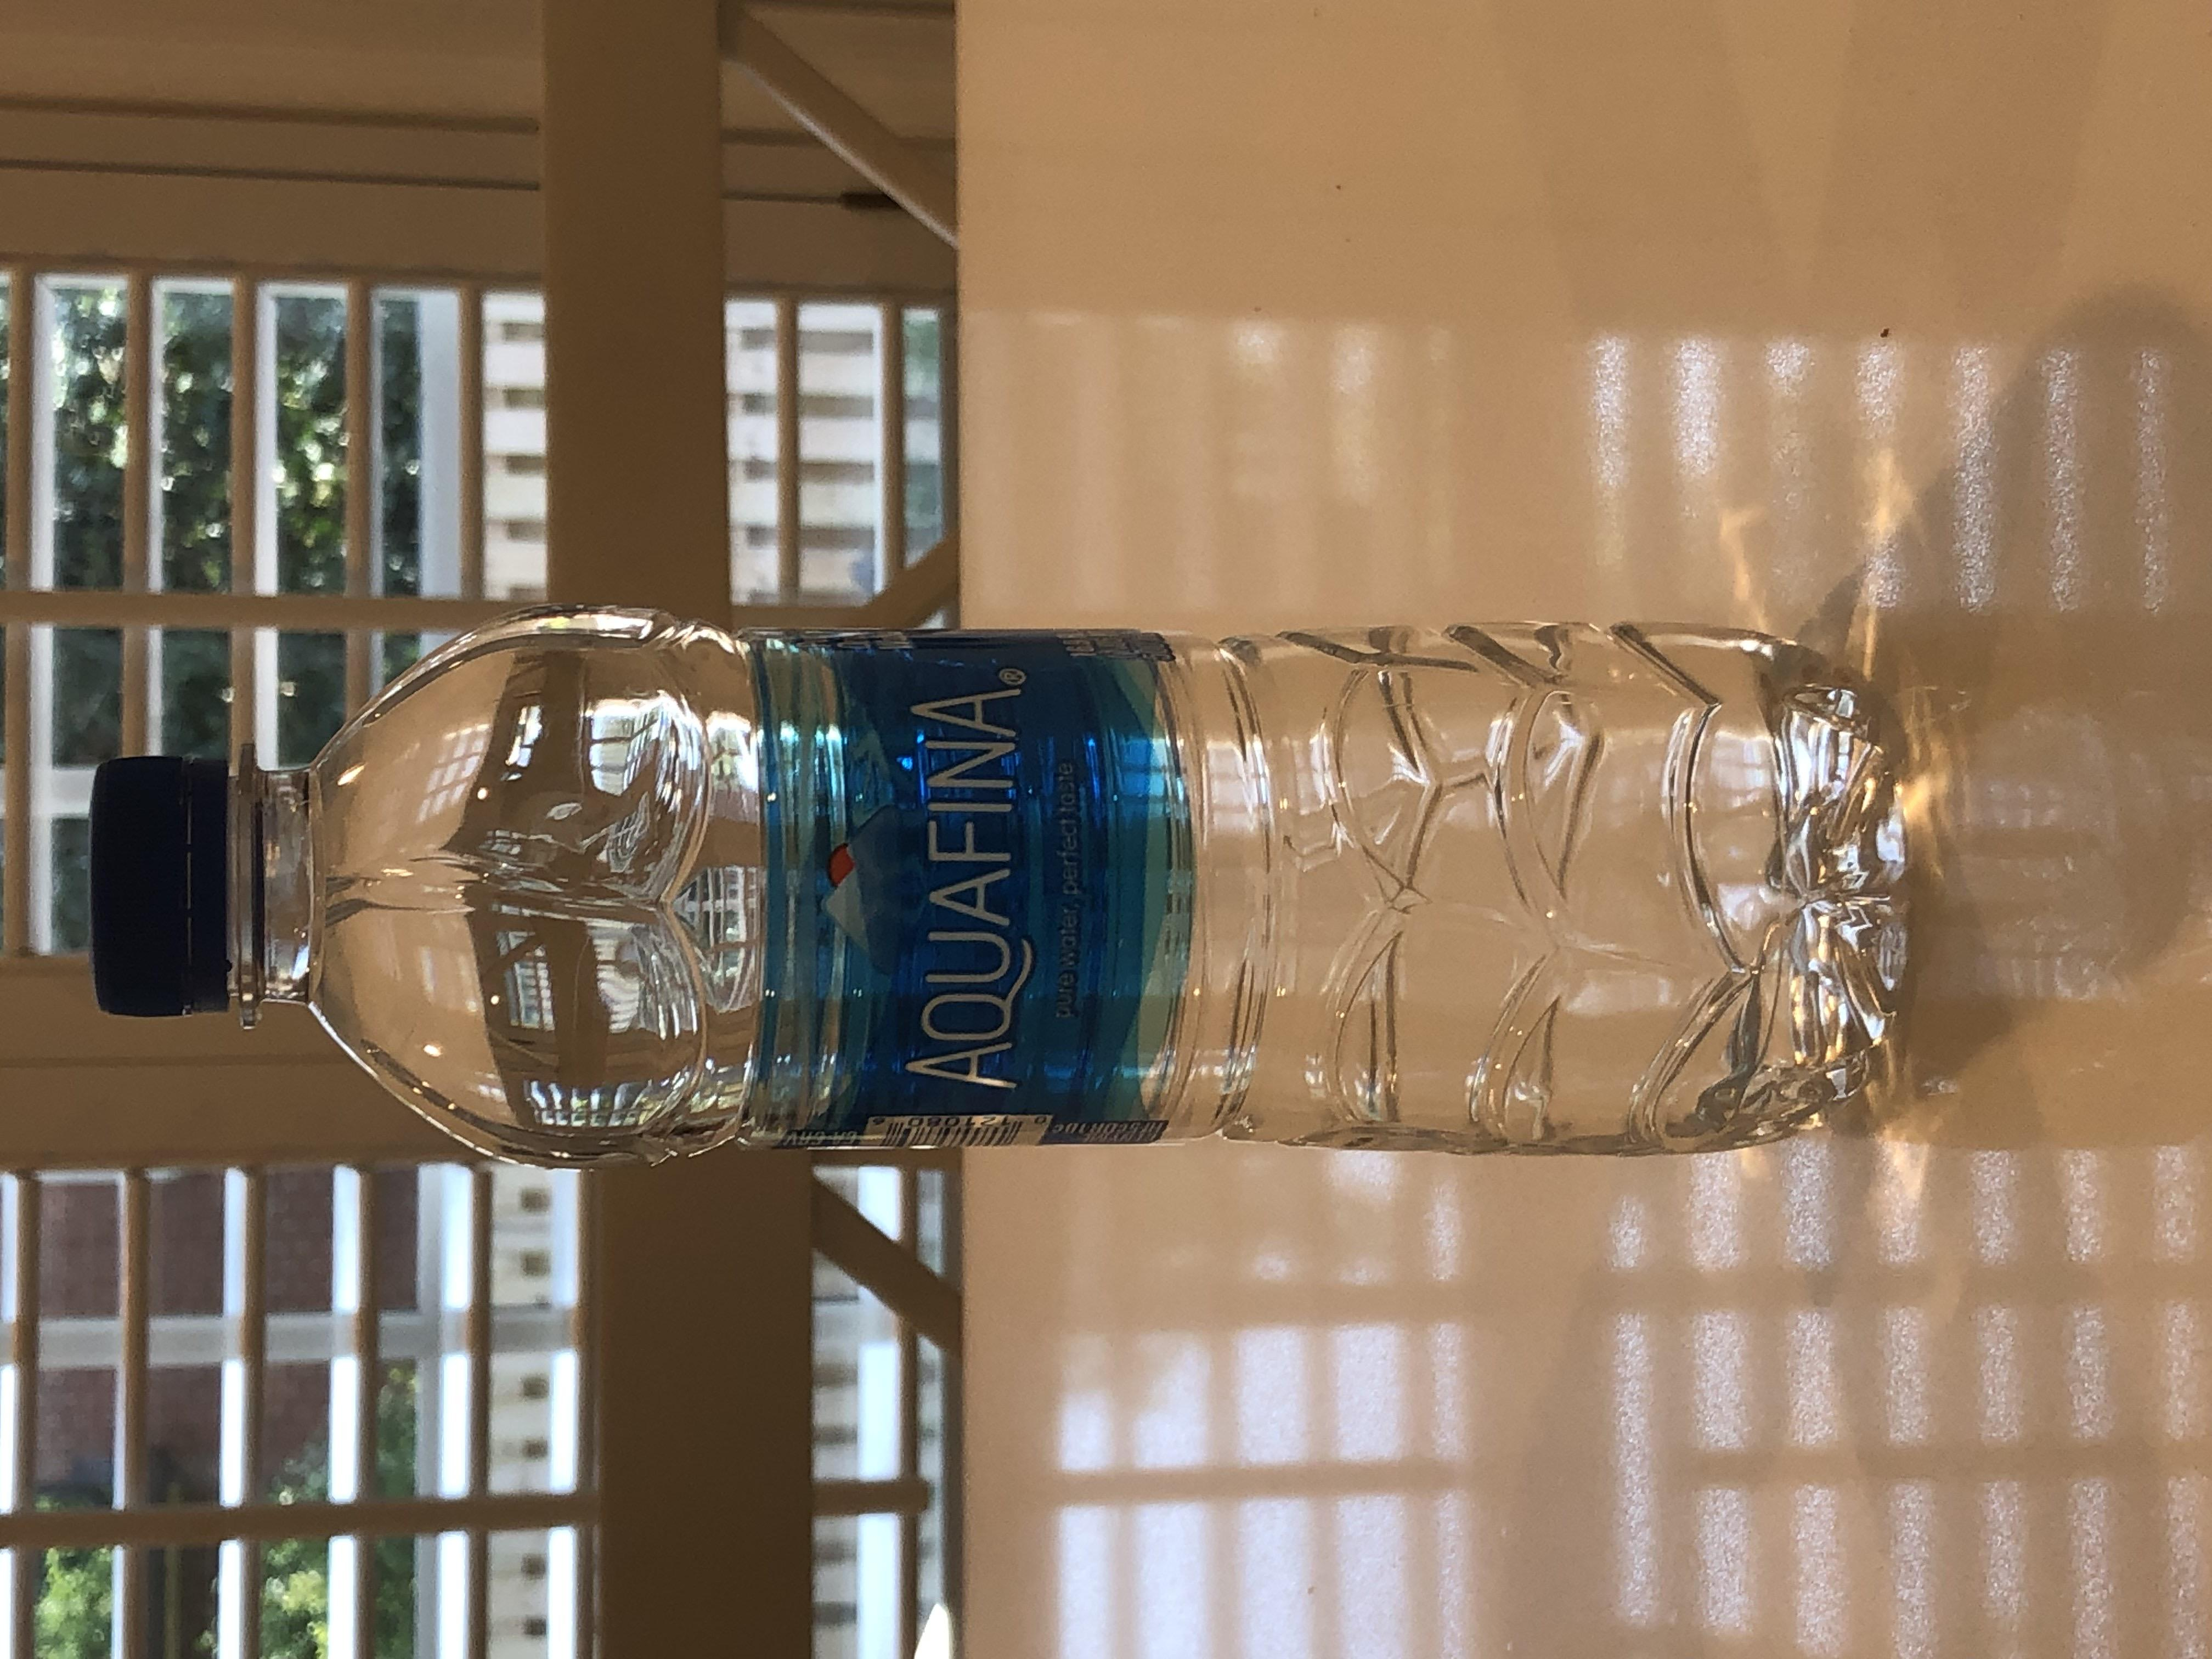bottle: (796, 209, 1595, 1622)
